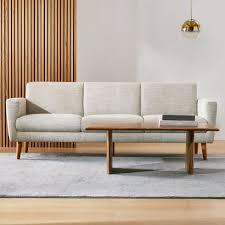light: (178, 0, 204, 41)
sofa: (5, 79, 221, 162)
table: (82, 123, 225, 179)
